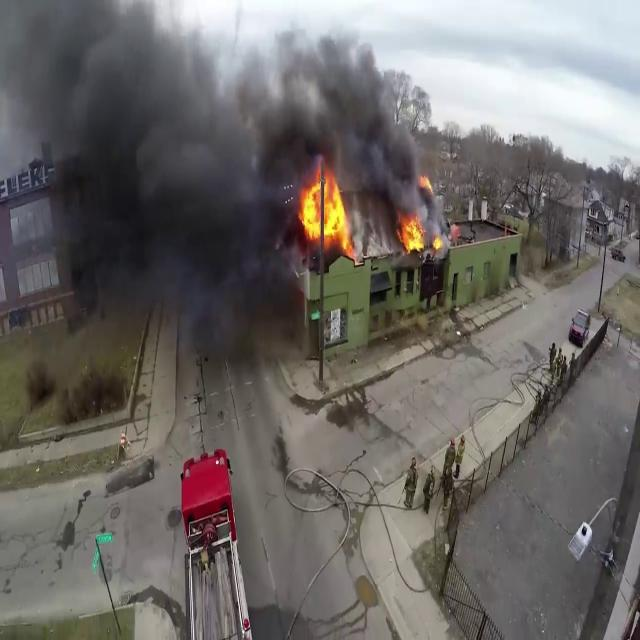Fire: (296, 160, 351, 255), (397, 206, 443, 257)
Smoke: (2, 5, 419, 229)
